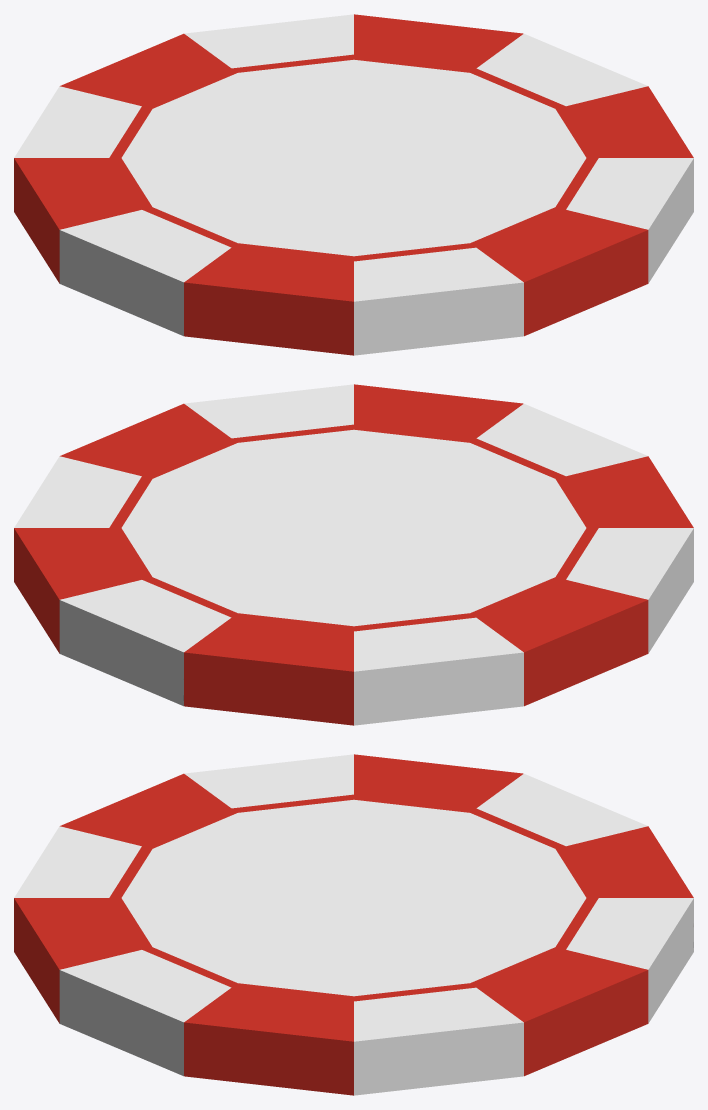
Rendered from token.fbx.
3 renders of one model, top to bottom at view 1: azimuth 30°, elevation 25°; view 2: azimuth 150°, elevation 25°; view 3: azimuth 270°, elevation 25°, orthographic.
Visible parts, largest first — view 1: Cylinder; view 2: Cylinder; view 3: Cylinder.
Part boxes in pixels (x1=…): Cylinder: x1=14, y1=14, x2=693, y2=355; Cylinder: x1=14, y1=384, x2=693, y2=725; Cylinder: x1=14, y1=754, x2=693, y2=1095.
Size of the model in its own units: 200 by 17.5 by 200.
